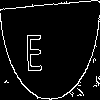E: (25, 24, 43, 72)
